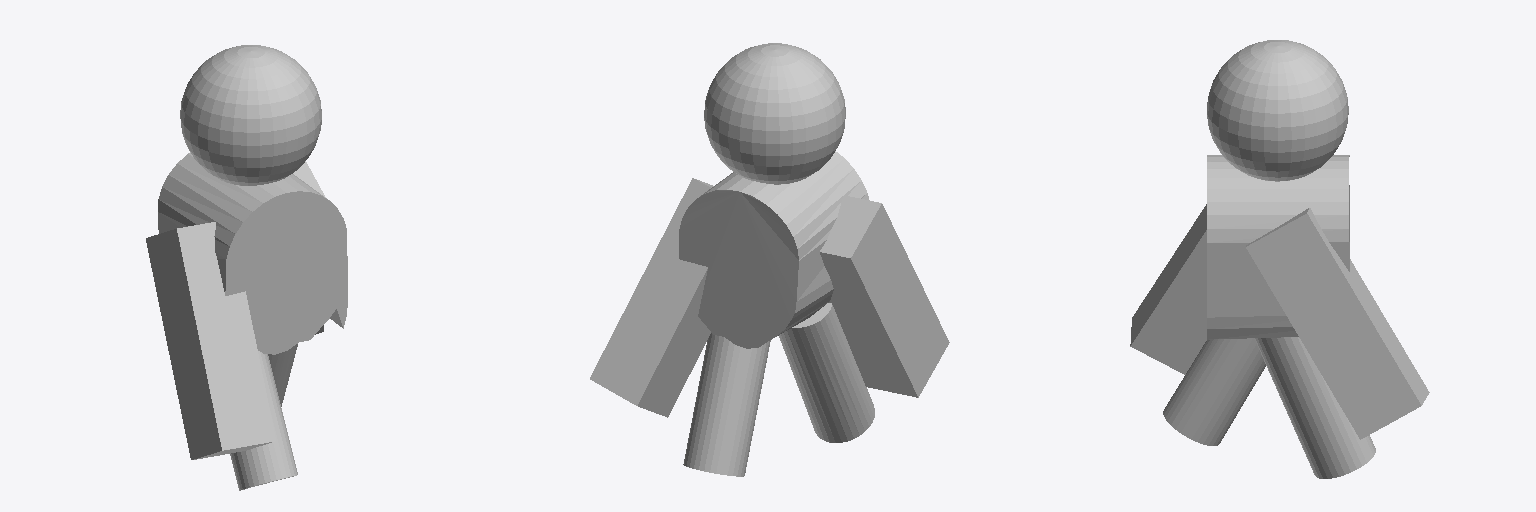
File: Figurine107.obj
3 views of the same model, side by side, from view 1: azimuth 30°, elevation 25°; view 2: azimuth 150°, elevation 25°; view 3: azimuth 270°, elevation 25° (orthographic).
Parts seen in each view (by area): view 1: Cylinder; view 2: Cylinder; view 3: Cylinder.
Part boxes in pixels (left/top/right/bottom): Cylinder: left=146, top=45, right=347, bottom=490; Cylinder: left=590, top=43, right=949, bottom=476; Cylinder: left=1130, top=40, right=1429, bottom=478.
Size of the model in its own units: 3.49 by 6.41 by 4.2.